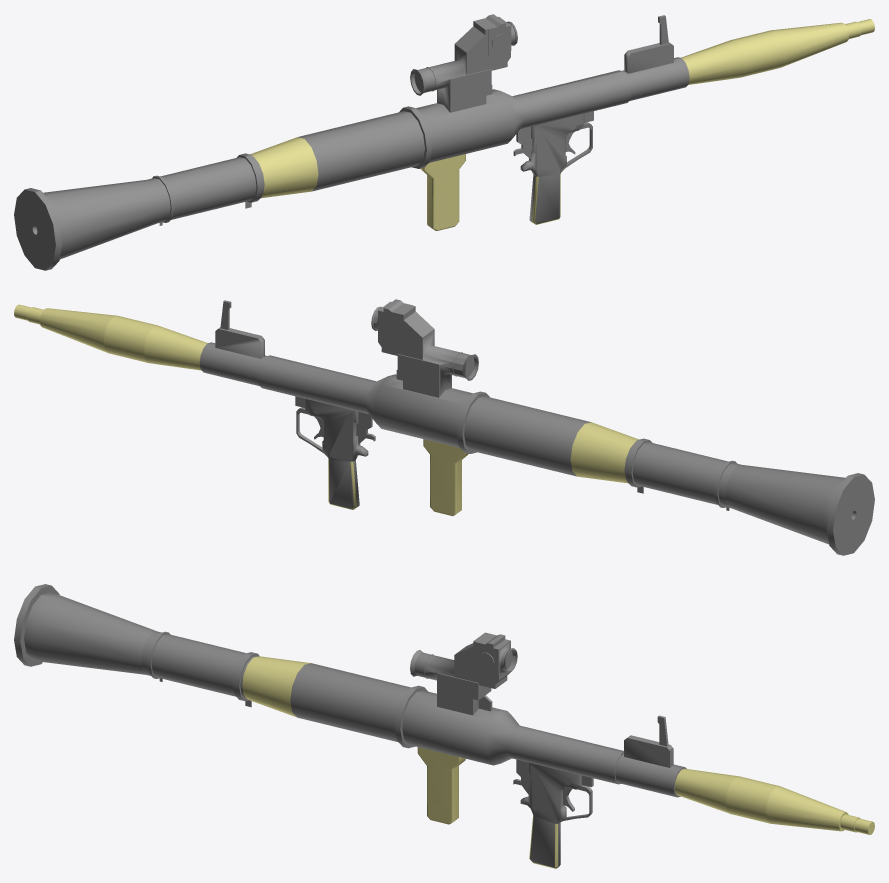
File: rocket launcher.fbx
3 views of the same model, one above another, from view 1: azimuth 30°, elevation 25°; view 2: azimuth 150°, elevation 25°; view 3: azimuth 330°, elevation 25° (orthographic).
Visible parts, largest first — view 1: rocket+launchers; view 2: rocket+launchers; view 3: rocket+launchers.
Part boxes in pixels (x1,y1,x2,y2): rocket+launchers: [14, 14, 874, 270]; rocket+launchers: [14, 299, 874, 555]; rocket+launchers: [14, 584, 874, 868].
Size of the model in its own units: 310 by 75.68 by 26.91.
